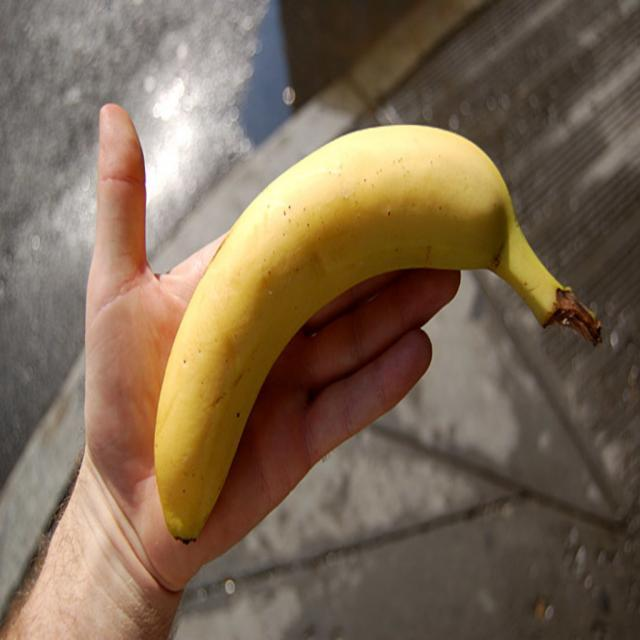Banana: (150, 122, 608, 550)
